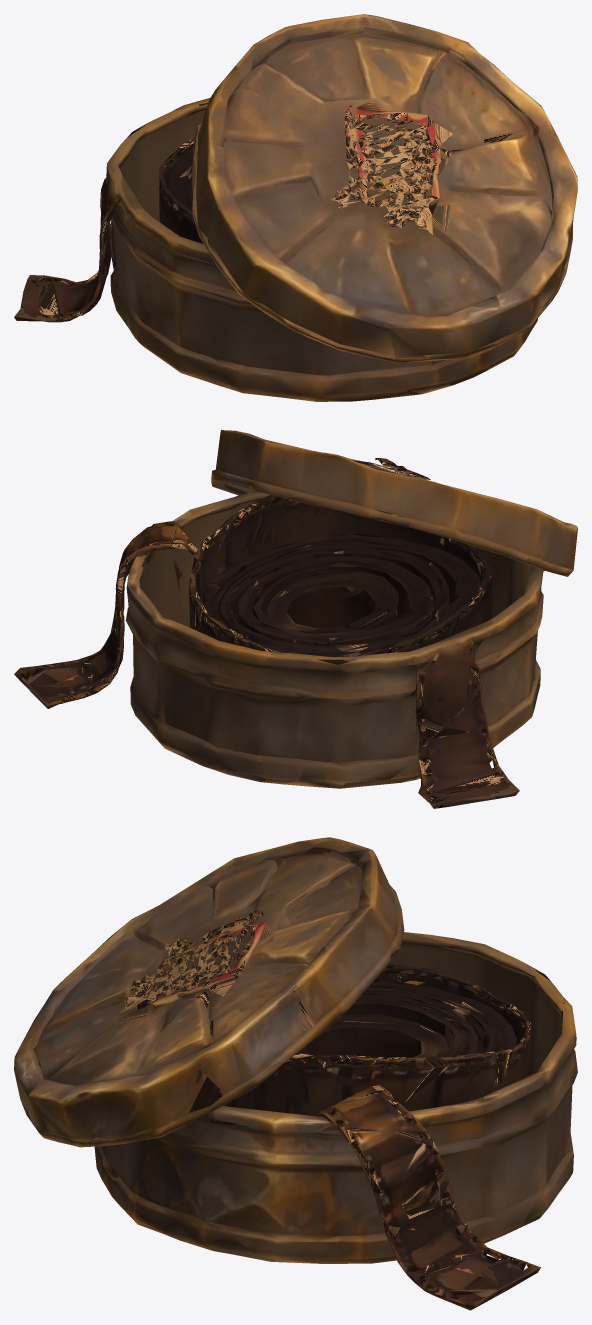
The model's file is film-can-alt.glb.
The picture shows the model from 3 angles, top to bottom: view 1: azimuth 30°, elevation 25°; view 2: azimuth 150°, elevation 25°; view 3: azimuth 270°, elevation 25°; orthographic projection. The views are drawn at different scales.
Parts seen in each view (by area): view 1: SM_FilmCanAlt; view 2: SM_FilmCanAlt; view 3: SM_FilmCanAlt.
Part boxes in pixels (<box>): SM_FilmCanAlt: <box>14,14,577,401</box>; SM_FilmCanAlt: <box>14,430,577,808</box>; SM_FilmCanAlt: <box>14,837,577,1310</box>.
Size of the model in its own units: 0.5 by 0.2517 by 0.4248.
Materials: 1 (1 with a texture image).
